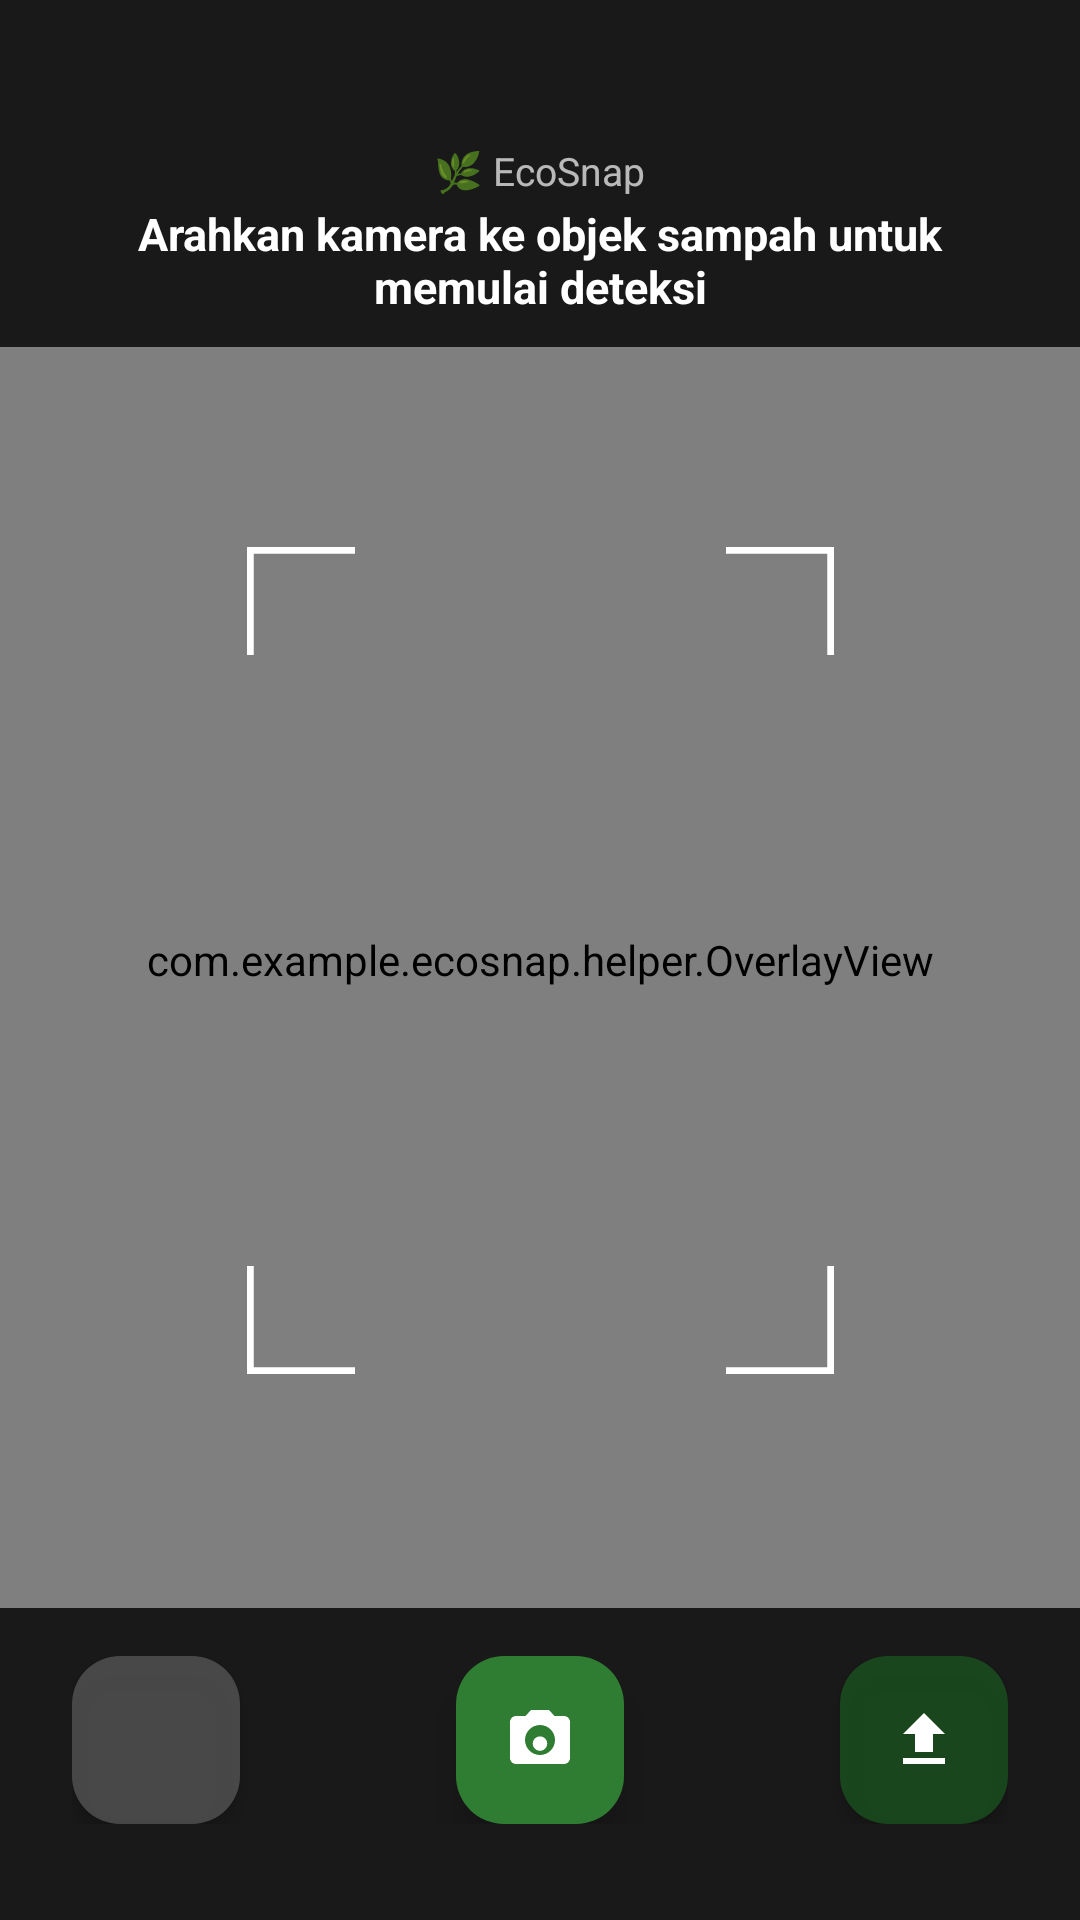

Named icons in this screenshot (1080w x 1920h) and their bounding boxes, (x1, y1, x2, y2):
Ambil foto: (456, 1656, 624, 1824)
corner bl: (247, 1266, 355, 1374)
corner br: (726, 1266, 834, 1374)
corner tl: (247, 547, 355, 655)
corner tr: (726, 547, 834, 655)
Upload dari galeri: (840, 1656, 1008, 1824)
